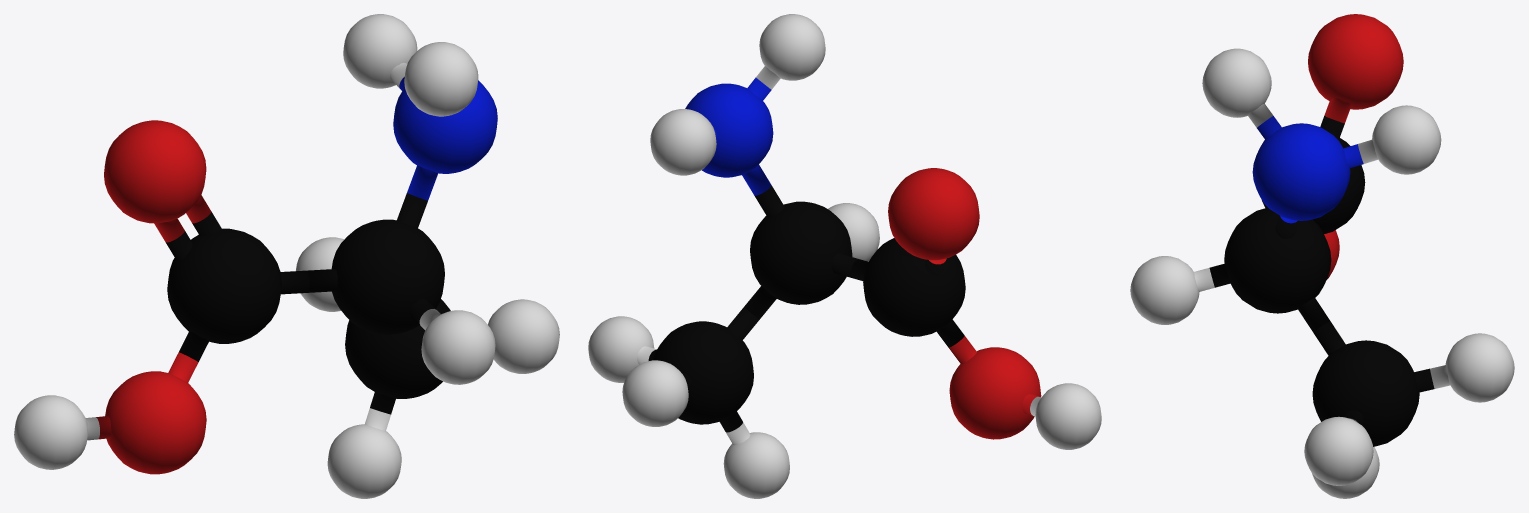
Rendered from asset.glb.
3 views of the same model, side by side, from view 1: azimuth 30°, elevation 25°; view 2: azimuth 150°, elevation 25°; view 3: azimuth 270°, elevation 25° (orthographic). The views are drawn at different scales.
Visible parts, largest first — view 1: Shape_Sphere.005, Shape_Sphere.003, Shape_Sphere.001, Shape_Sphere, Shape_Sphere.002, Shape_Sphere.004, Shape_Sphere.010, Shape_Sphere.012, Shape_Sphere.006, Shape_Sphere.008, Shape_Sphere.007, Shape_Sphere.011 (+5 smaller); view 2: Shape_Sphere.003, Shape_Sphere.005, Shape_Sphere.004, Shape_Sphere.001, Shape_Sphere, Shape_Sphere.002, Shape_Sphere.012, Shape_Sphere.011, Shape_Sphere.009, Shape_Sphere.010, Shape_Sphere.008, Shape_Sphere.007 (+3 smaller); view 3: Shape_Sphere.003, Shape_Sphere.004, Shape_Sphere.002, Shape_Sphere.001, Shape_Sphere.009, Shape_Sphere.007, Shape_Sphere.011, Shape_Sphere.010, Shape_Sphere.006, Shape_Sphere.005, Shape_Sphere.008, Shape_Cylinder.014 (+2 smaller).
Boxes of the visible parts, <box> form: Shape_Sphere.005: <box>167,228,281,343</box>; Shape_Sphere.003: <box>331,219,444,334</box>; Shape_Sphere.001: <box>104,120,206,223</box>; Shape_Sphere: <box>105,371,206,474</box>; Shape_Sphere.002: <box>393,80,497,173</box>; Shape_Sphere.004: <box>345,299,450,398</box>; Shape_Sphere.010: <box>404,42,478,116</box>; Shape_Sphere.012: <box>14,395,87,469</box>; Shape_Sphere.006: <box>421,310,495,384</box>; Shape_Sphere.008: <box>327,424,401,498</box>; Shape_Sphere.007: <box>487,299,559,373</box>; Shape_Sphere.011: <box>343,14,417,88</box>; Shape_Sphere.003: <box>750,201,852,304</box>; Shape_Sphere.005: <box>863,238,965,336</box>; Shape_Sphere.004: <box>653,321,753,424</box>; Shape_Sphere.001: <box>888,168,979,260</box>; Shape_Sphere: <box>949,347,1041,439</box>; Shape_Sphere.002: <box>685,83,773,177</box>; Shape_Sphere.012: <box>1035,383,1101,449</box>; Shape_Sphere.011: <box>650,109,716,175</box>; Shape_Sphere.009: <box>622,360,688,426</box>; Shape_Sphere.010: <box>759,14,825,80</box>; Shape_Sphere.008: <box>723,432,789,498</box>; Shape_Sphere.007: <box>588,316,654,382</box>; Shape_Sphere.003: <box>1224,207,1331,313</box>; Shape_Sphere.004: <box>1312,340,1419,446</box>; Shape_Sphere.002: <box>1252,123,1350,220</box>; Shape_Sphere.001: <box>1308,14,1403,109</box>; Shape_Sphere.009: <box>1445,333,1514,402</box>; Shape_Sphere.007: <box>1304,416,1373,485</box>; Shape_Sphere.011: <box>1372,105,1441,174</box>; Shape_Sphere.010: <box>1202,48,1271,117</box>; Shape_Sphere.006: <box>1130,256,1199,324</box>; Shape_Sphere.005: <box>1262,138,1365,233</box>; Shape_Sphere.008: <box>1312,447,1379,498</box>; Shape_Cylinder.014: <box>1298,297,1330,332</box>.
Bounding box in the file's own units: 5.6 × 4.75 × 3.66.
